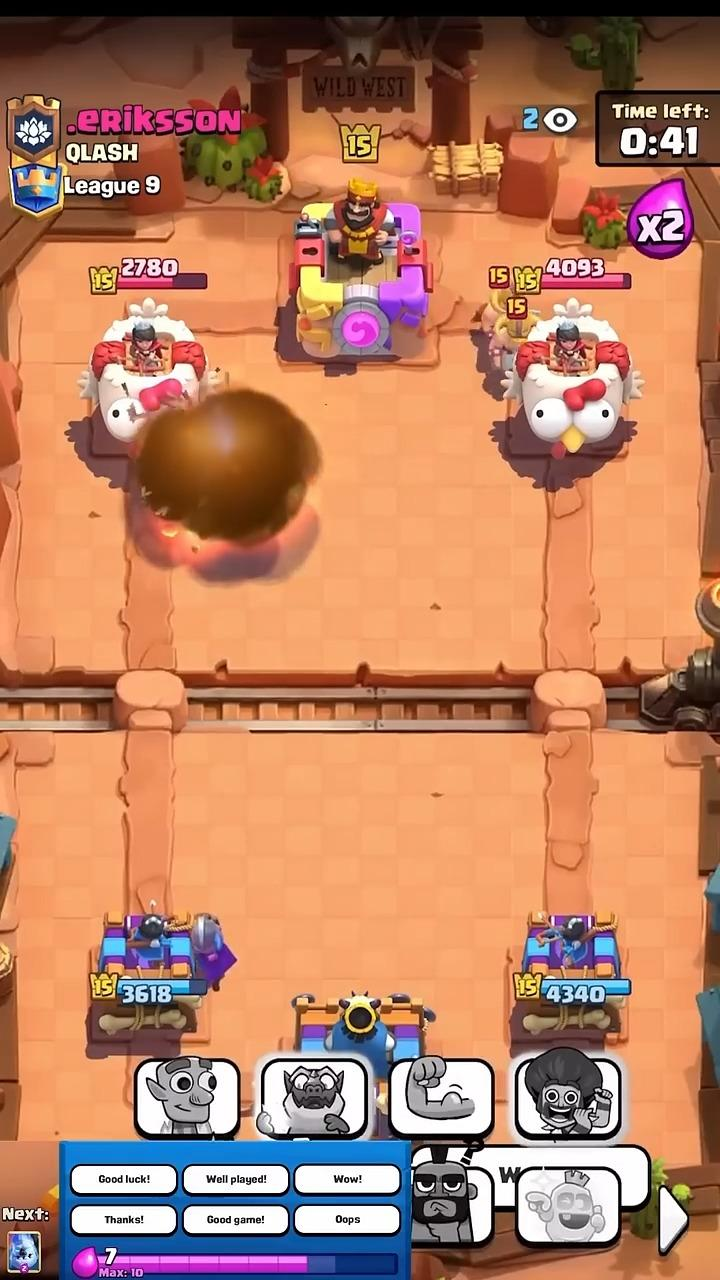elite barbarians: (481, 289, 539, 373)
fireball: (135, 389, 320, 545)
musketeer: (190, 913, 236, 989)
